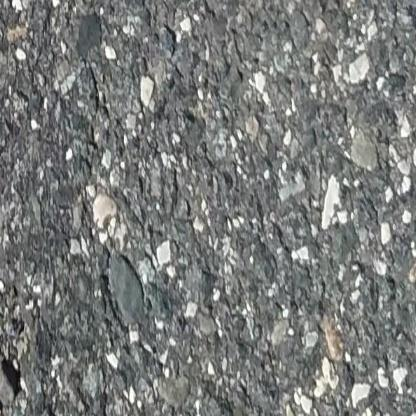Cracks: (0, 165, 29, 416)
